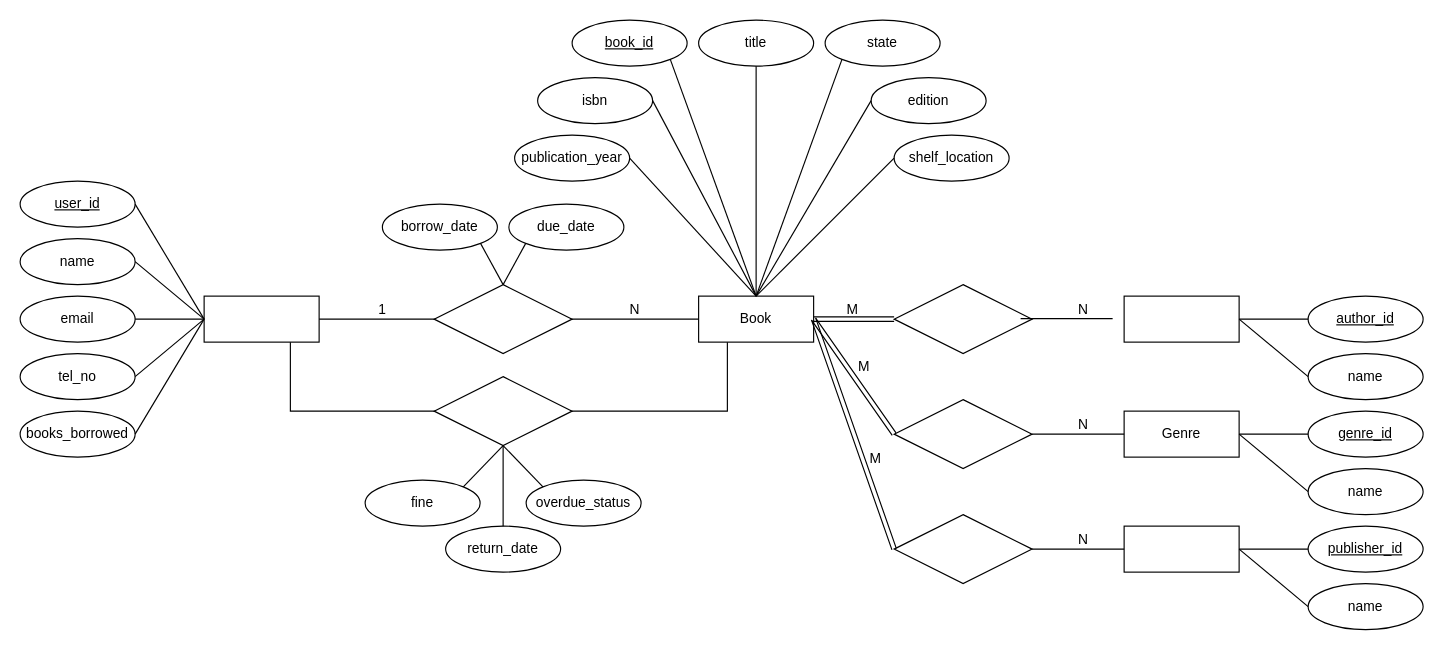
Some shapes in this 1443 by 650 pixel diagram are drawn without their labels. Each missing label, with the centre of its shape:
"Author" belongs at pixel 1181 318.
"borrows" belongs at pixel 502 318.
"has a" belongs at pixel 962 433.
"Publisher" belongs at pixel 1181 548.
"publishes by" belongs at pixel 962 548.
"returns" belongs at pixel 502 410.
"User" belongs at pixel 261 318.
"writes by" belongs at pixel 962 318.
